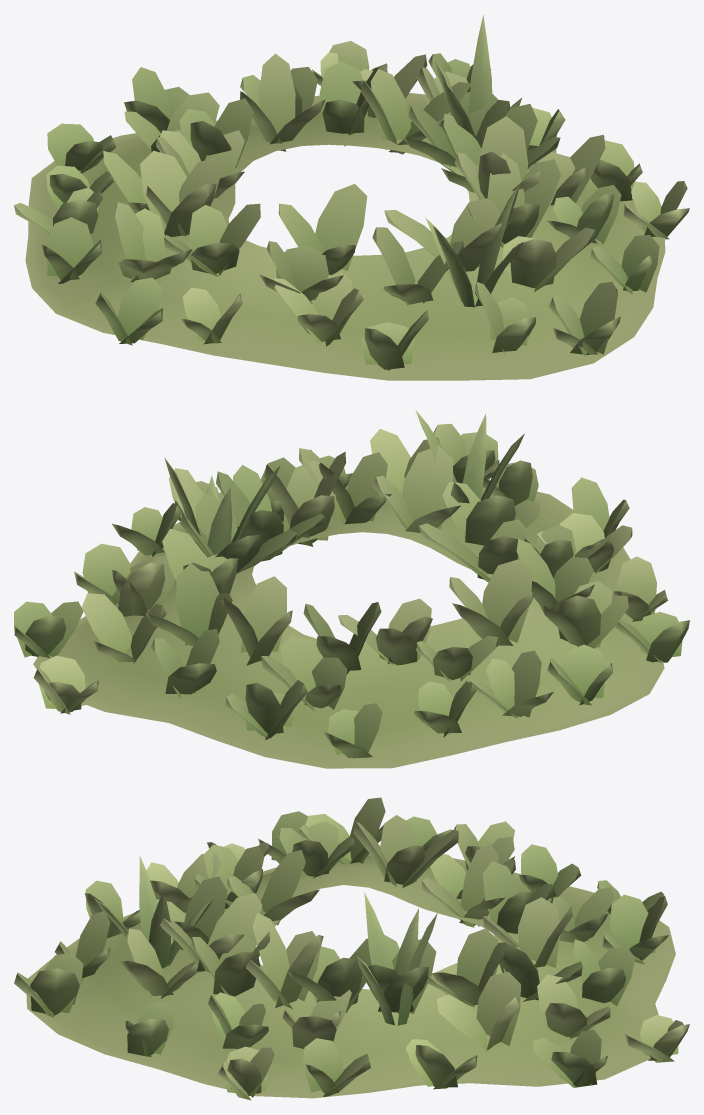
The model's file is patch_ring_c.glb.
The picture shows the model from 3 angles, top to bottom: view 1: azimuth 30°, elevation 25°; view 2: azimuth 150°, elevation 25°; view 3: azimuth 270°, elevation 25°; orthographic projection. The views are drawn at different scales.
Parts seen in each view (by area): view 1: Patch_Ring_C.001; view 2: Patch_Ring_C.001; view 3: Patch_Ring_C.001.
Part boxes in pixels (x1,y1,x2,y2): Patch_Ring_C.001: (14, 15, 689, 380); Patch_Ring_C.001: (14, 410, 689, 768); Patch_Ring_C.001: (14, 797, 689, 1100).
Size of the model in its own units: 1.06 by 0.3062 by 1.19.
